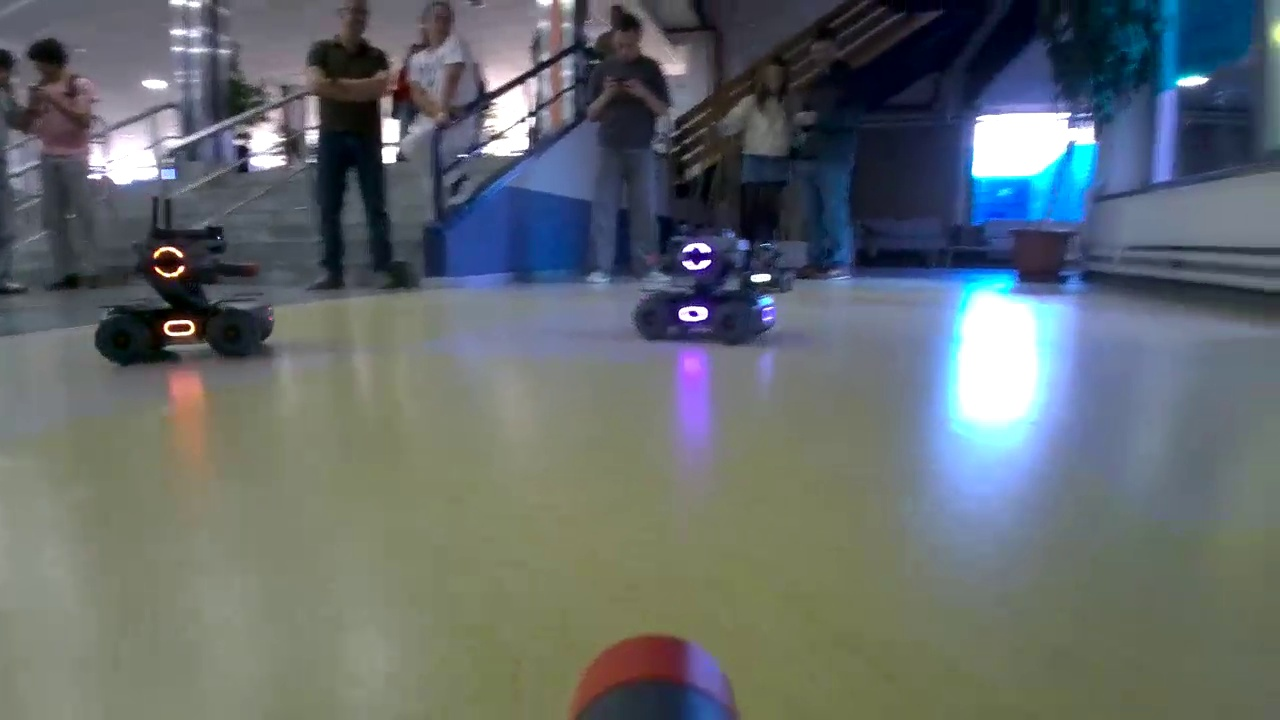robot: (98, 218, 287, 363), (628, 226, 778, 343)
